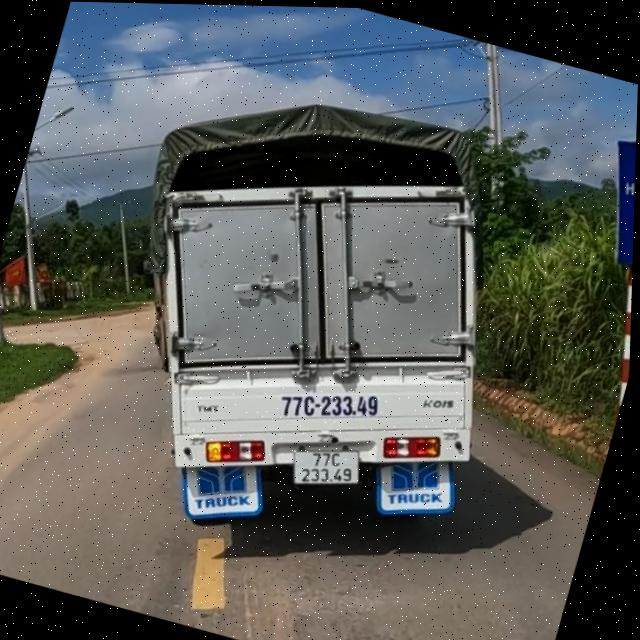car: (57, 48, 562, 598)
plate: (284, 434, 371, 504)
